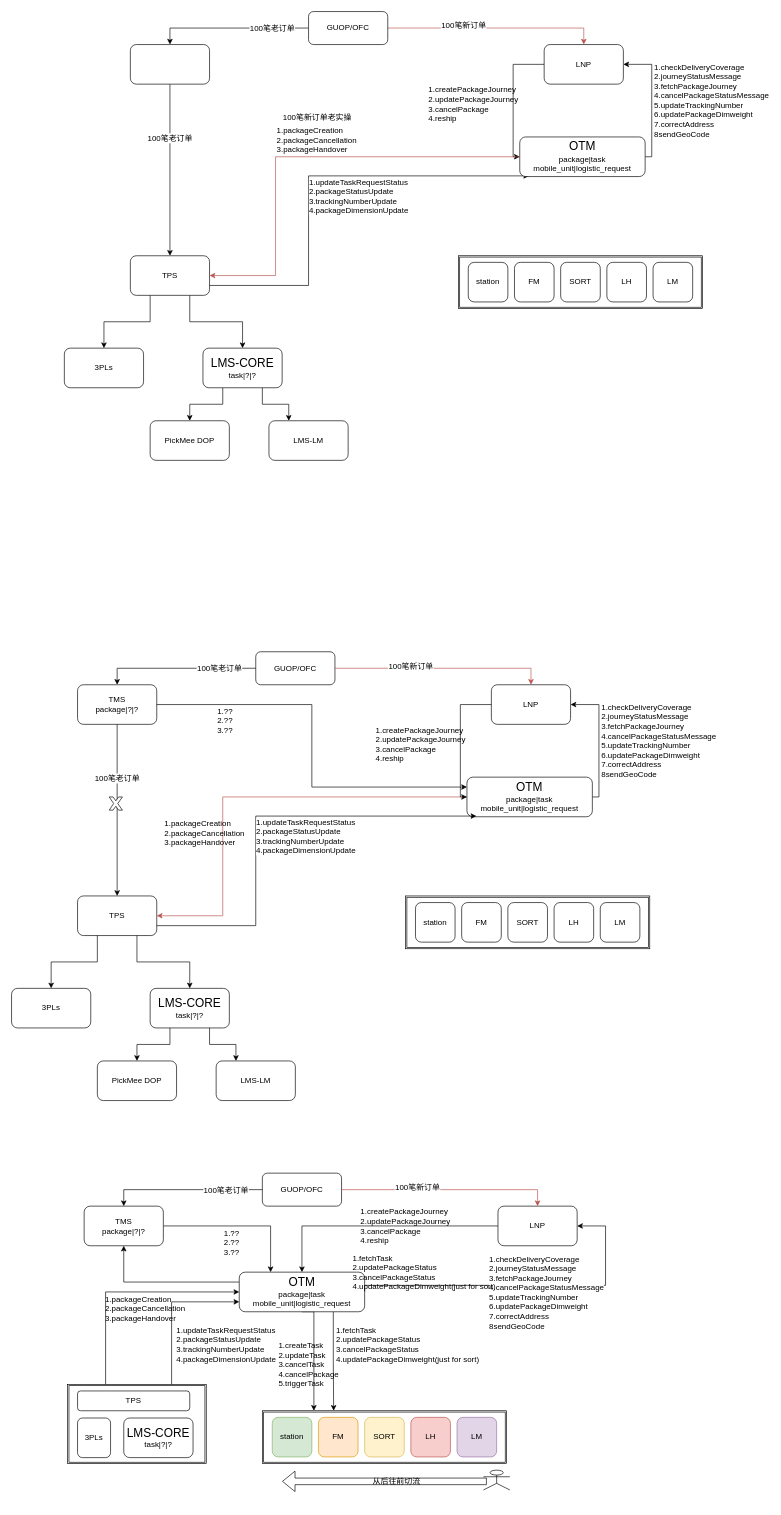
The diagram is 781 pixels wide and 1515 high, and some of its shapes have lost their labels. The shapes that lost their labels are listed below. From the top down, each one's box as (x1, y1, x2, y2) in pixels, then its label:
(130, 44, 210, 84): TMS
(483, 1469, 510, 1490): 实操人员
